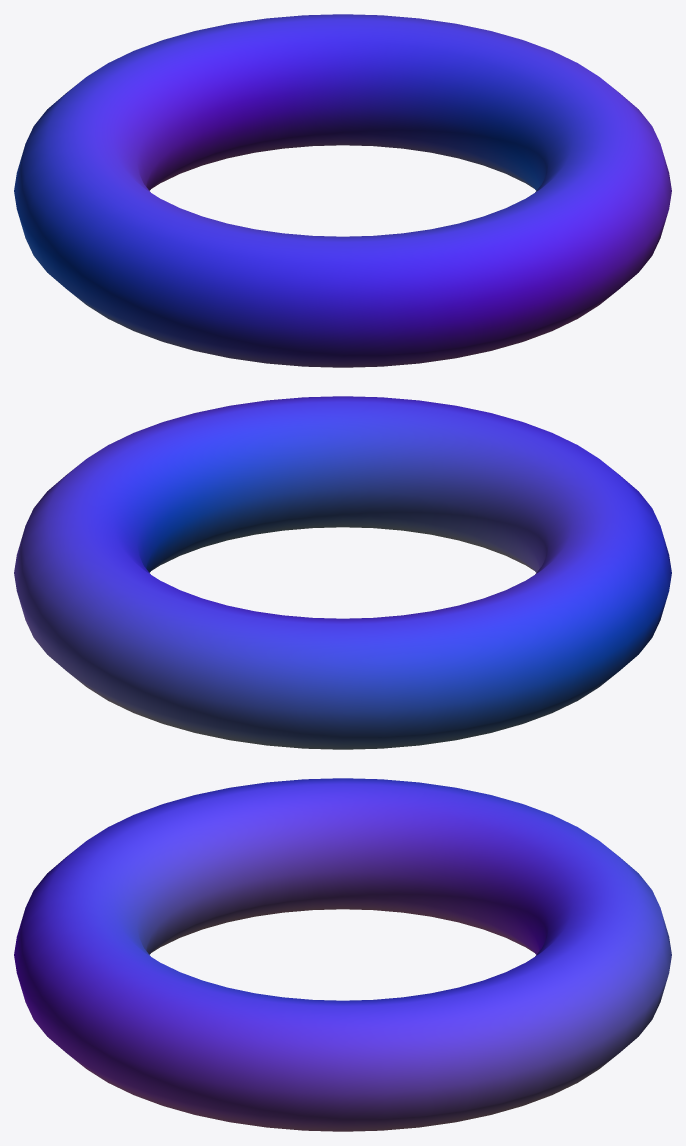
The picture shows the model from 3 angles, top to bottom: view 1: azimuth 30°, elevation 25°; view 2: azimuth 150°, elevation 25°; view 3: azimuth 270°, elevation 25°; orthographic projection.
Parts seen in each view (by area): view 1: Torus; view 2: Torus; view 3: Torus.
Part boxes in pixels (left/top/right/bottom): Torus: left=14, top=14, right=671, bottom=367; Torus: left=14, top=396, right=671, bottom=749; Torus: left=14, top=778, right=671, bottom=1131.
Bounding box in the file's own units: 250 × 50 × 250.
